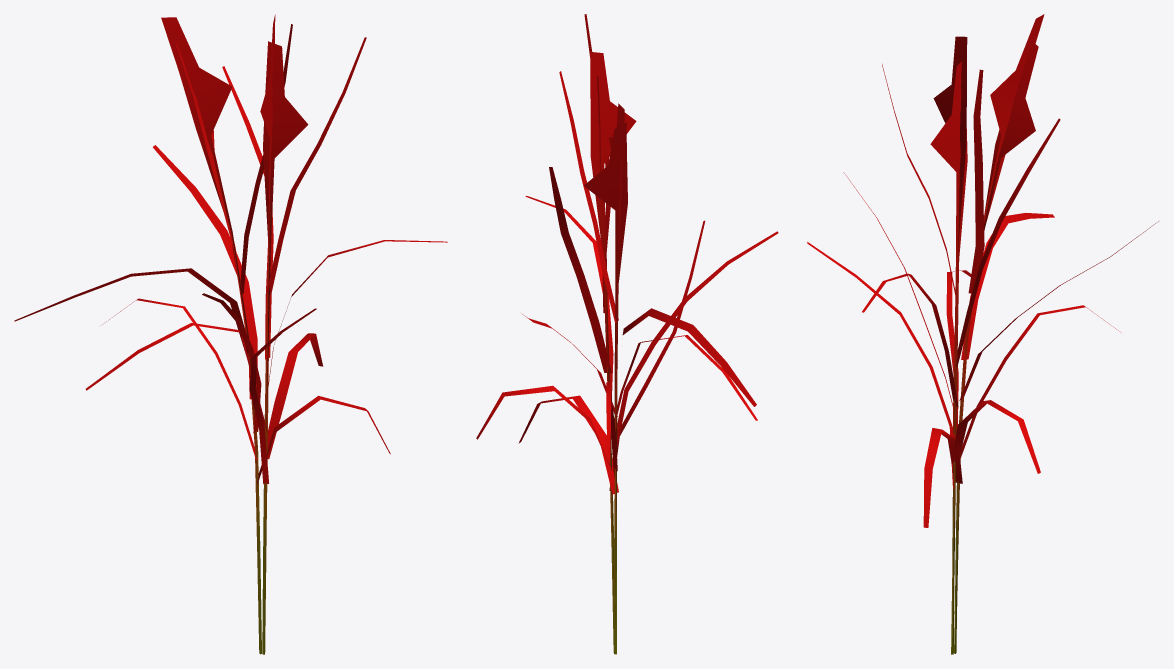
The model's file is Var14_LOD2.fbx.
3 renders of one model, left to right at view 1: azimuth 30°, elevation 25°; view 2: azimuth 150°, elevation 25°; view 3: azimuth 270°, elevation 25°, orthographic. The views are drawn at different scales.
Parts seen in each view (by area): view 1: _r53o_Var14_LOD2; view 2: _r53o_Var14_LOD2; view 3: _r53o_Var14_LOD2.
Part boxes in pixels (<box>): _r53o_Var14_LOD2: <box>14,14,447,654</box>; _r53o_Var14_LOD2: <box>476,14,778,654</box>; _r53o_Var14_LOD2: <box>807,14,1158,654</box>.
Bounding box in the file's own units: 17.01 × 30.33 × 15.45.
